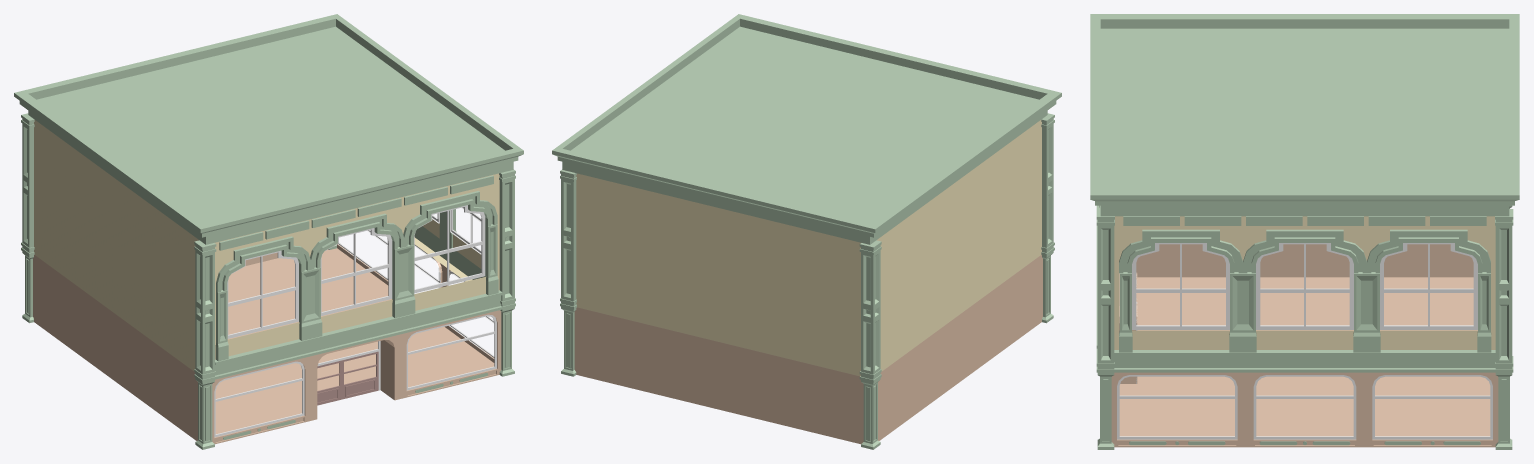
3 views of the same model, side by side, from view 1: azimuth 30°, elevation 25°; view 2: azimuth 150°, elevation 25°; view 3: azimuth 270°, elevation 25° (orthographic). The views are drawn at different scales.
Visible parts, largest first — view 1: building, door 2, door 1; view 2: building; view 3: building.
Boxes of the visible parts, bbox=[...] form: building: bbox=[14, 14, 523, 449]; door 2: bbox=[342, 351, 378, 399]; door 1: bbox=[317, 360, 341, 405]; building: bbox=[552, 14, 1061, 449]; building: bbox=[1090, 14, 1519, 449].
Size of the model in its own units: 7271 by 4818 by 7271.
